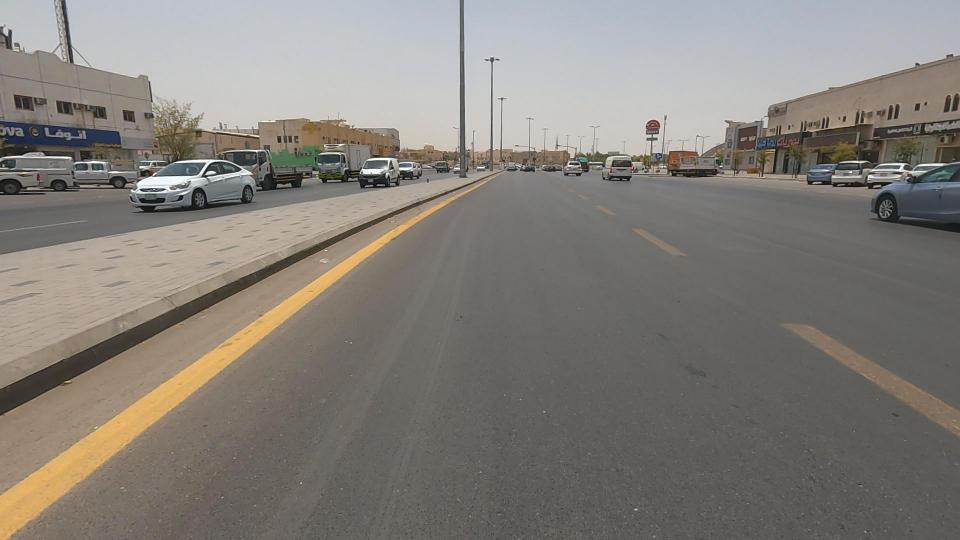BAD_BILLBOARD: (760, 108, 902, 171)
